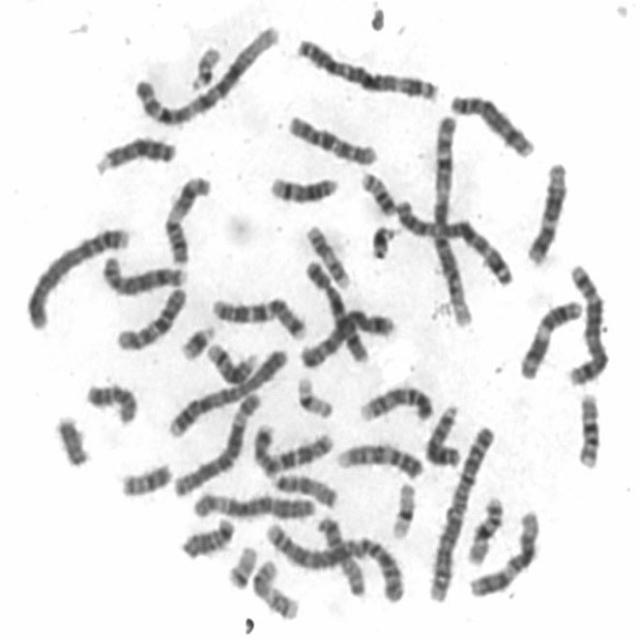A1: (133, 22, 280, 132), (430, 112, 475, 329)
A2: (261, 516, 408, 607), (427, 426, 497, 604)
A3: (394, 197, 514, 289), (295, 37, 441, 104)
B4: (24, 225, 132, 333), (166, 348, 289, 439)
B5: (301, 309, 395, 370), (567, 262, 610, 386)
C10: (283, 112, 379, 168), (115, 285, 189, 352)
C11: (518, 300, 583, 380), (163, 172, 211, 266)
C12: (468, 503, 541, 600), (525, 158, 570, 265)
C6: (172, 390, 261, 497), (192, 493, 317, 519)
C7: (252, 420, 334, 476), (212, 296, 306, 343)
C8: (450, 90, 536, 160), (100, 254, 188, 296)
C9: (336, 443, 424, 482), (361, 383, 435, 426)
D13: (95, 134, 177, 177), (424, 403, 463, 470)
D14: (204, 340, 259, 385), (268, 174, 339, 205)
D15: (314, 512, 370, 599), (268, 468, 339, 508)
E16: (464, 495, 505, 567), (577, 390, 601, 474)
E17: (250, 554, 302, 624), (305, 223, 352, 291)
E18: (181, 513, 235, 561), (83, 380, 138, 426)
F19: (294, 373, 336, 423), (388, 480, 418, 540)
F20: (118, 461, 178, 504), (358, 172, 396, 217)
G21: (178, 322, 221, 363), (369, 224, 404, 264)
G22: (188, 42, 222, 93), (228, 544, 258, 590)
X: (300, 258, 371, 364)
Y: (54, 415, 89, 470)
